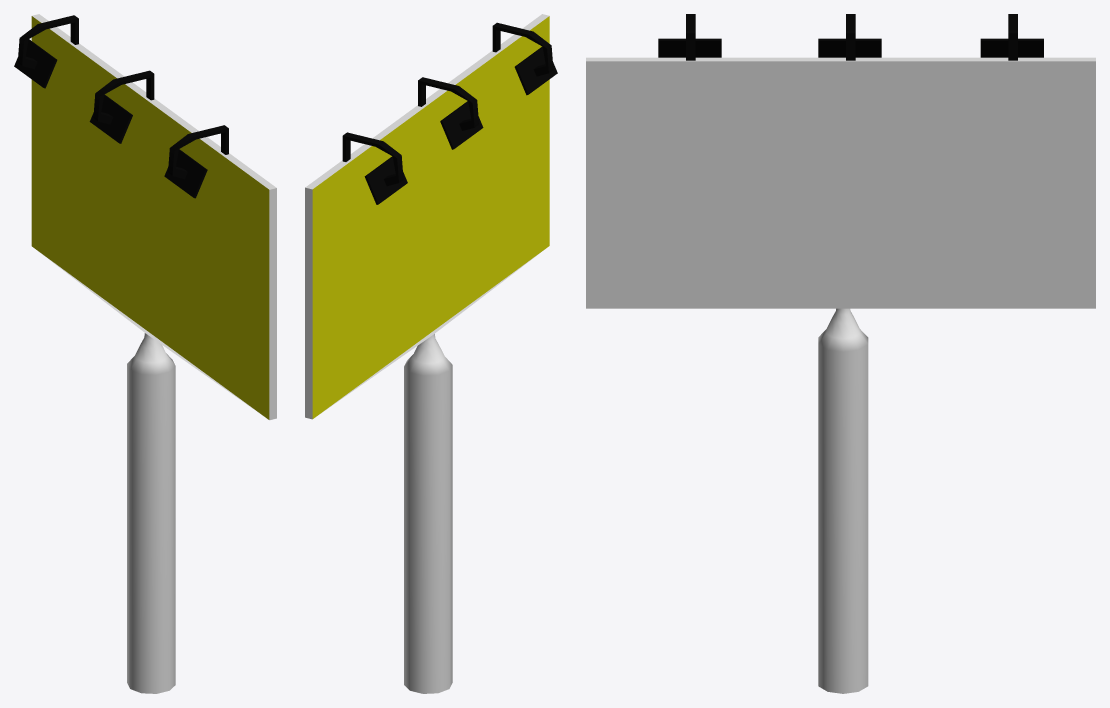
File: Billboard_1.fbx
The picture shows the model from 3 angles, left to right: view 1: azimuth 30°, elevation 25°; view 2: azimuth 150°, elevation 25°; view 3: azimuth 270°, elevation 25°; orthographic projection. The views are drawn at different scales.
Visible parts, largest first — view 1: Billboard_1; view 2: Billboard_1; view 3: Billboard_1.
Boxes of the visible parts, <box> form: Billboard_1: <box>14,14,276,693</box>; Billboard_1: <box>305,14,557,693</box>; Billboard_1: <box>586,14,1095,693</box>.
Bounding box in the file's own units: 30.97 × 245 × 174.
